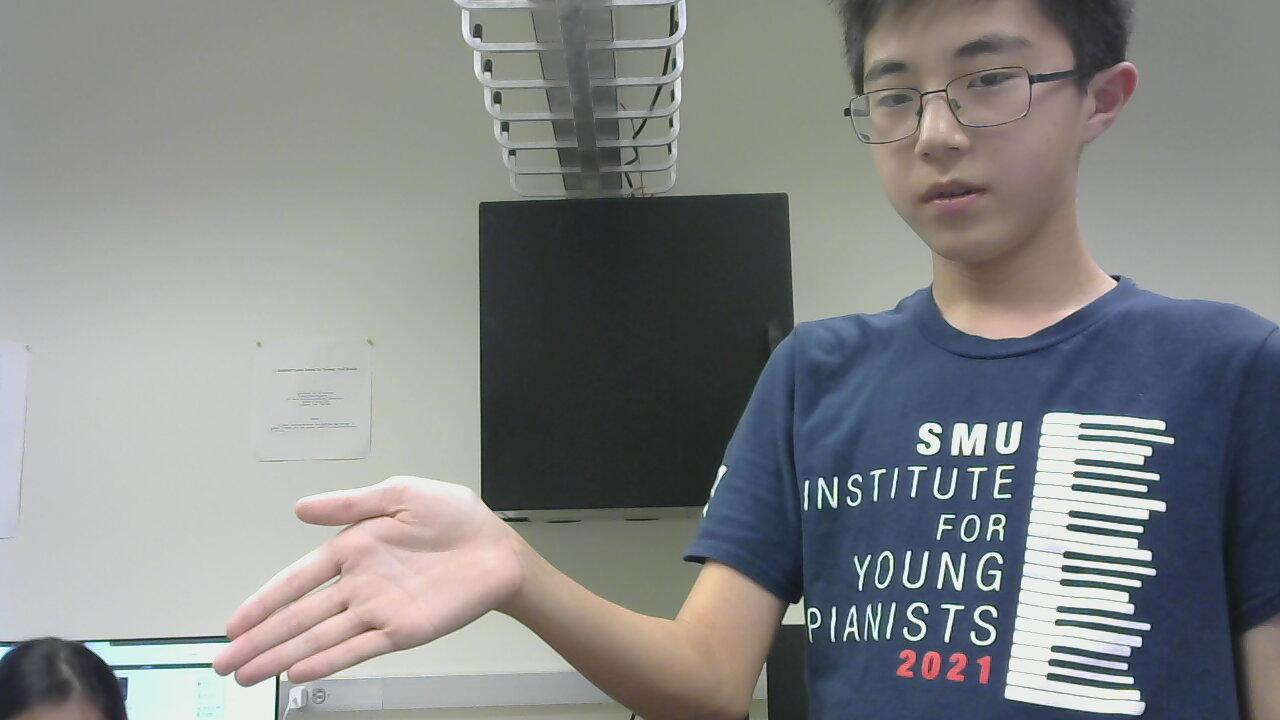hands: (203, 471, 506, 694)
